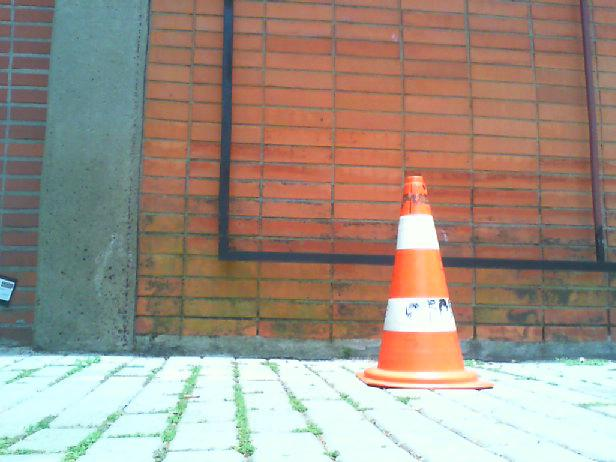0 cone: (356, 176, 494, 390)
